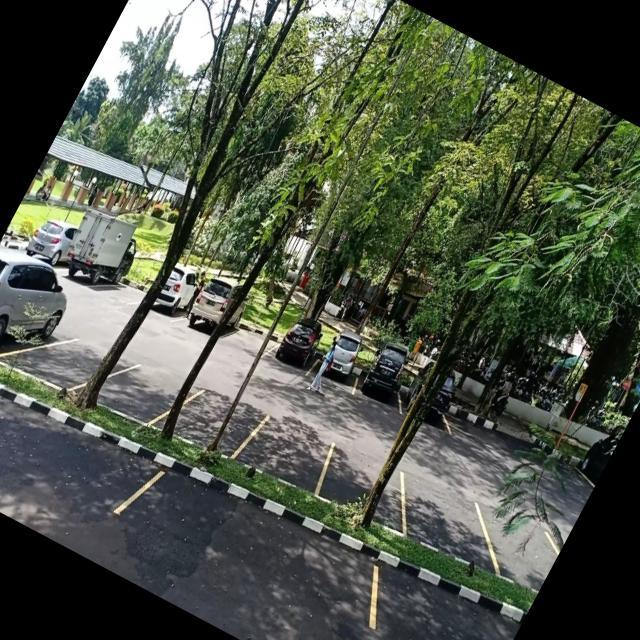empty: (122, 446, 395, 640), (0, 355, 163, 545), (389, 472, 506, 574), (165, 376, 269, 476), (312, 438, 418, 533), (238, 406, 340, 499), (92, 346, 186, 438), (18, 319, 112, 408), (222, 312, 280, 368)
occupied: (0, 256, 74, 381), (177, 274, 249, 349), (264, 314, 330, 382), (352, 348, 416, 413), (308, 328, 372, 391)
